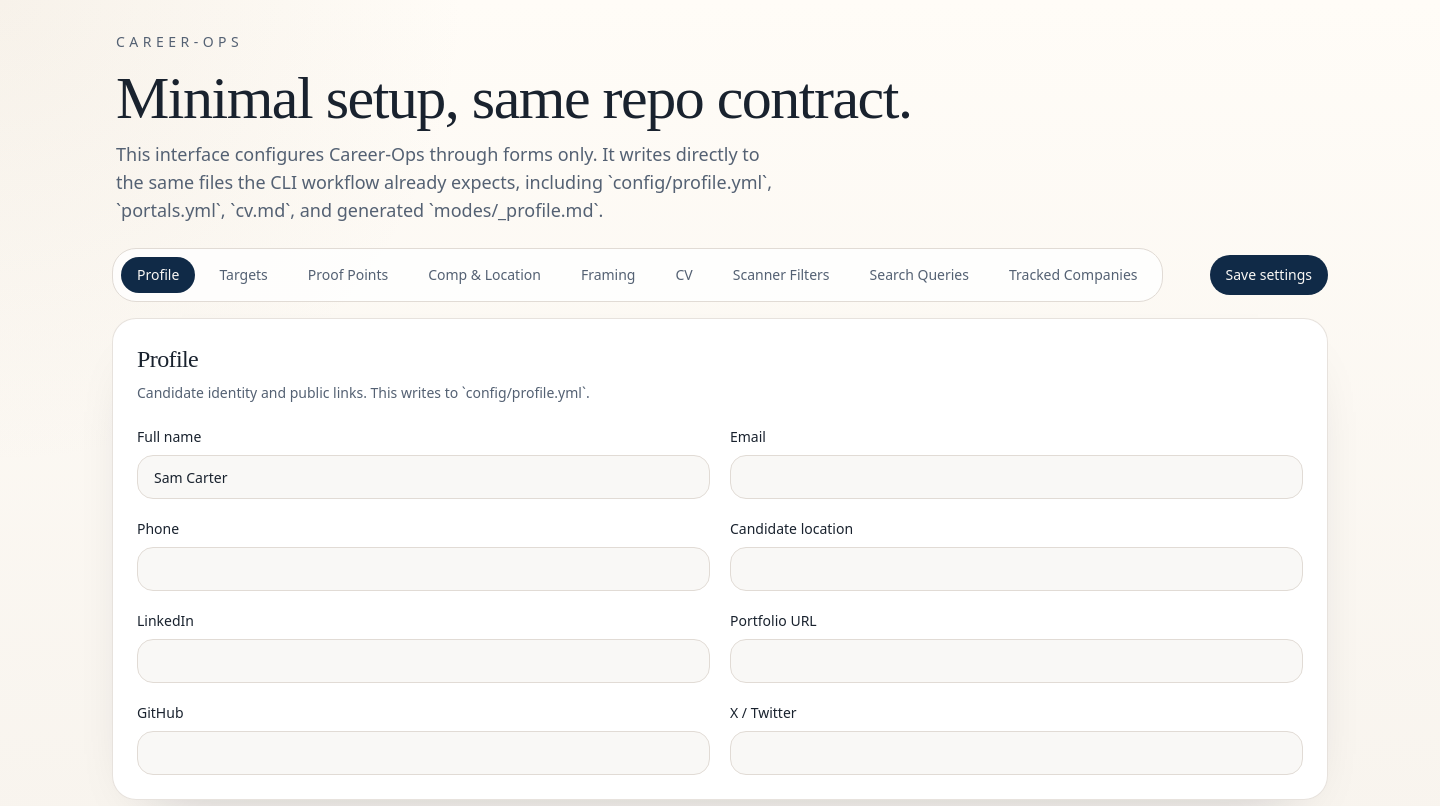
Test: App › renders settings tabs for complete setup and loads saved values
Expected: the button "Save settings" is shown, [1210, 255, 1328, 295]
Expected: the field showing "Sam Carter" is shown, [137, 455, 710, 499]
Click the button "Scanner Filters" at (781, 275), box [717, 257, 846, 293]
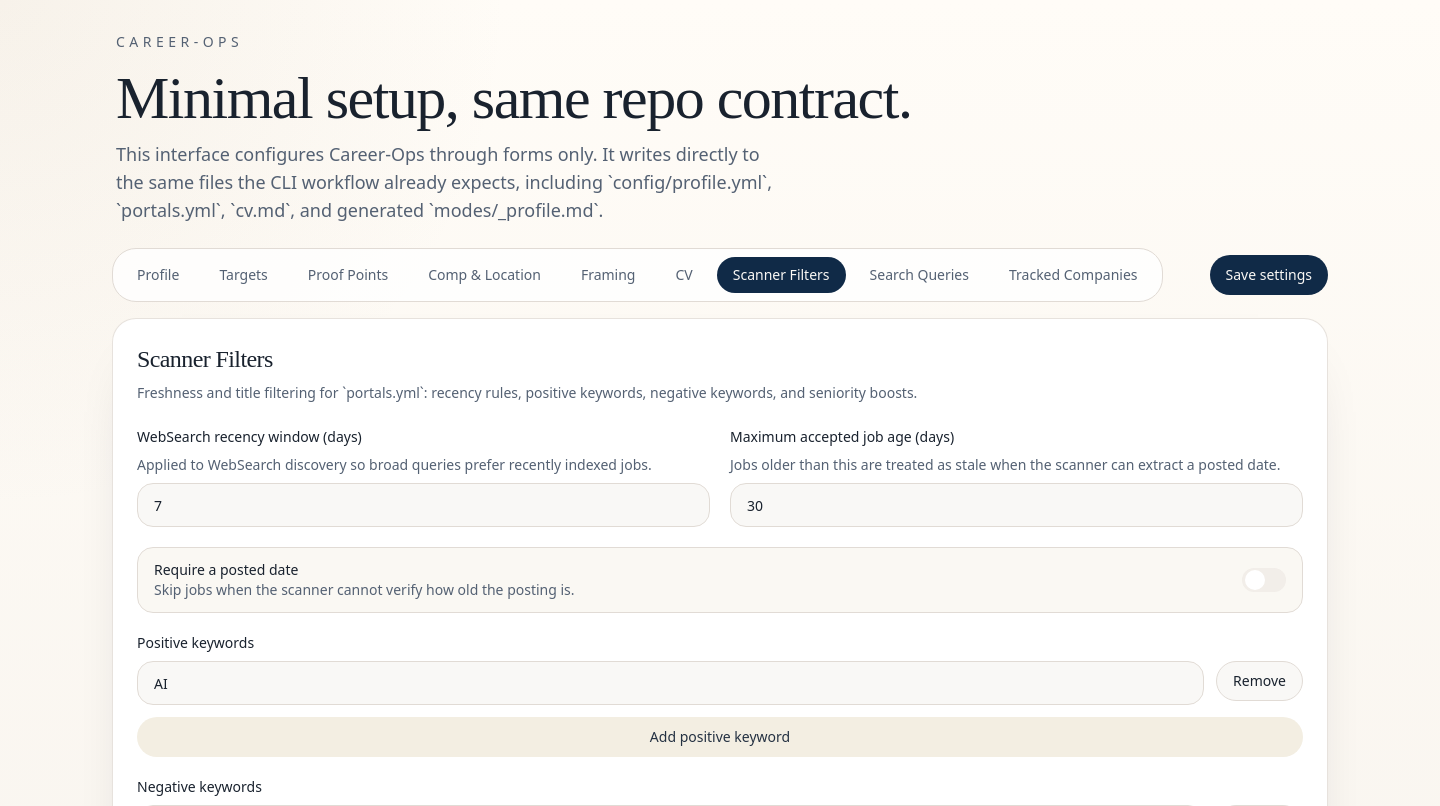
Expected: the 1st field showing "AI" is shown, [137, 661, 1204, 705]
Click the button "Search Queries" at (919, 275), box [854, 257, 985, 293]
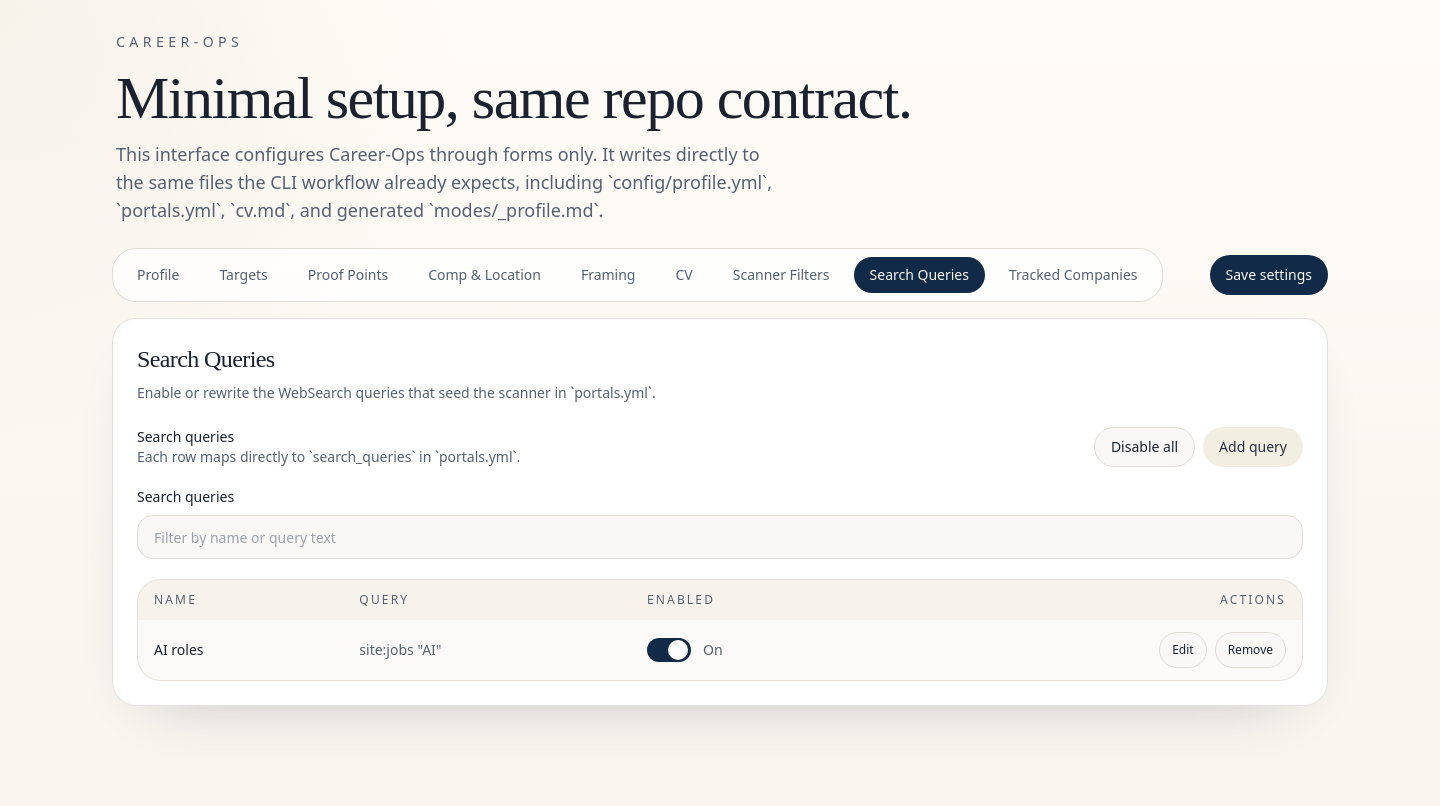
Expected: the field labelled "Search queries" is shown, [137, 515, 1303, 559]
Expected: the button "Disable all" is shown, [1094, 427, 1195, 467]
Expected: the switch named "Disable AI roles" is shown, [647, 638, 691, 662]
Click the button with aria-label "Expand AI roles" at (1183, 650), box [1159, 632, 1207, 668]
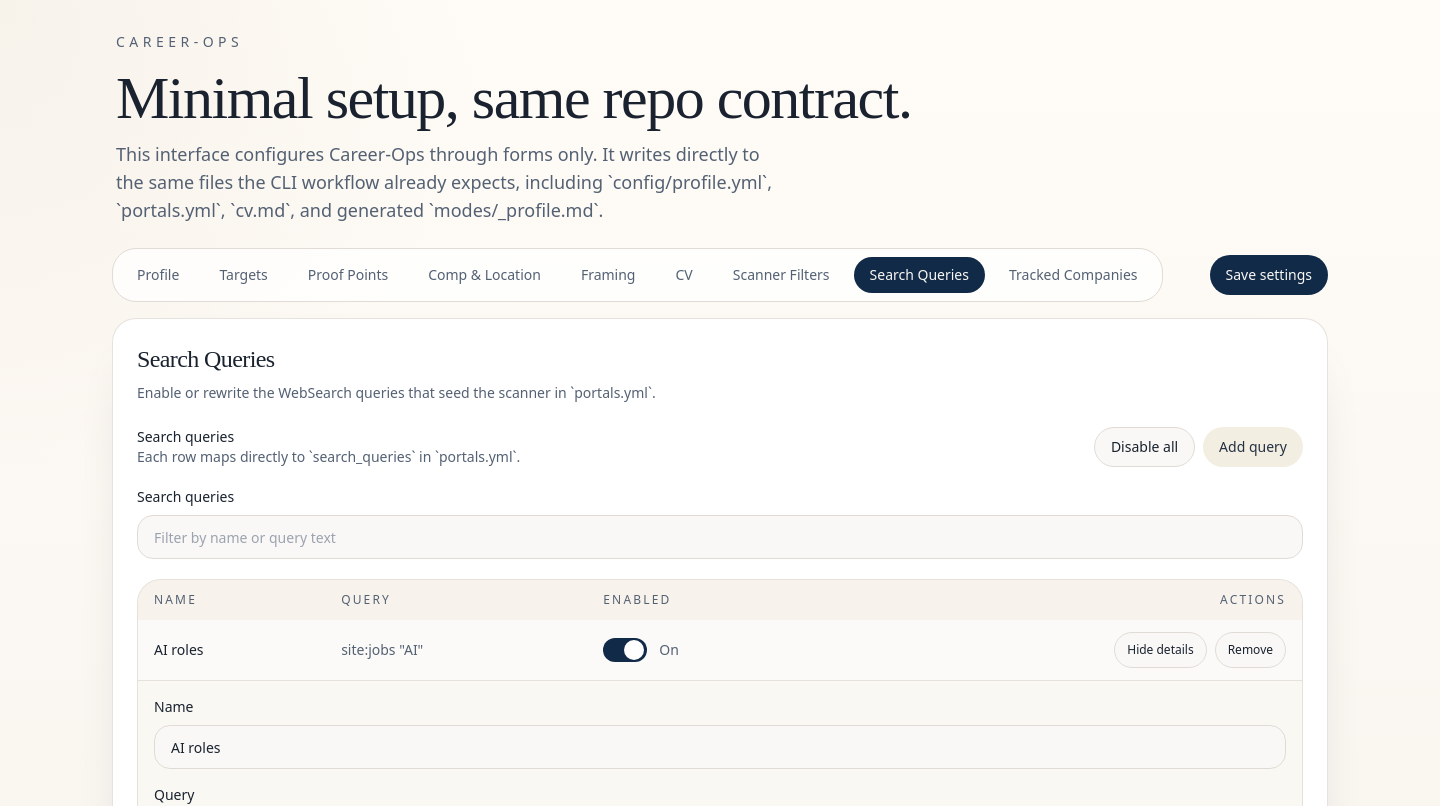
Expected: the field showing "AI roles" is shown, [154, 725, 1286, 769]
Click the button "Tracked Companies" at (1073, 275), box [993, 257, 1154, 293]
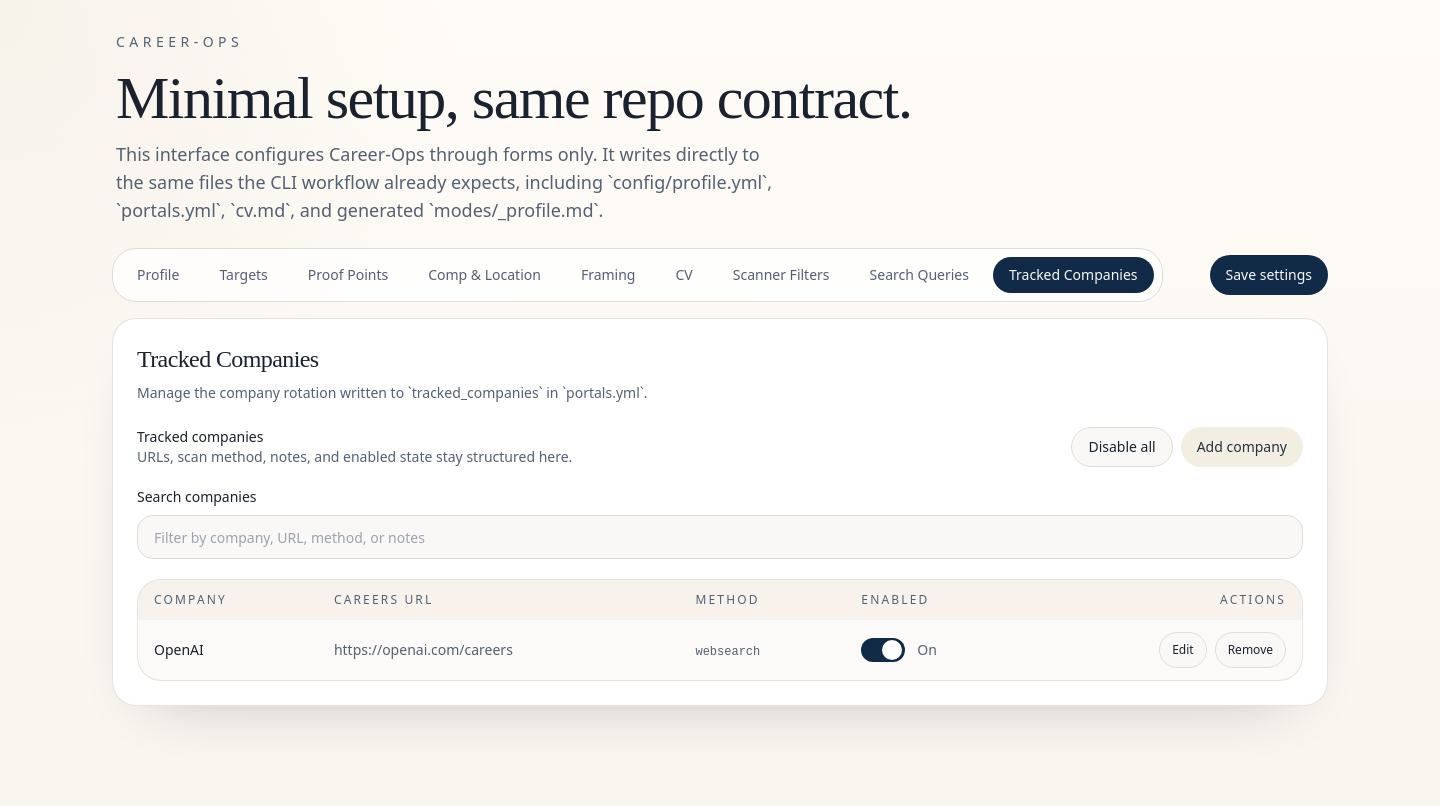
Expected: the button "Disable all" is shown, [1071, 427, 1173, 467]
Expected: the field labelled "Search companies" is shown, [137, 515, 1303, 559]
Expected: the switch named "Disable OpenAI" is shown, [861, 638, 905, 662]
Click the button with aria-label "Expand OpenAI" at (1183, 650), box [1159, 632, 1207, 668]
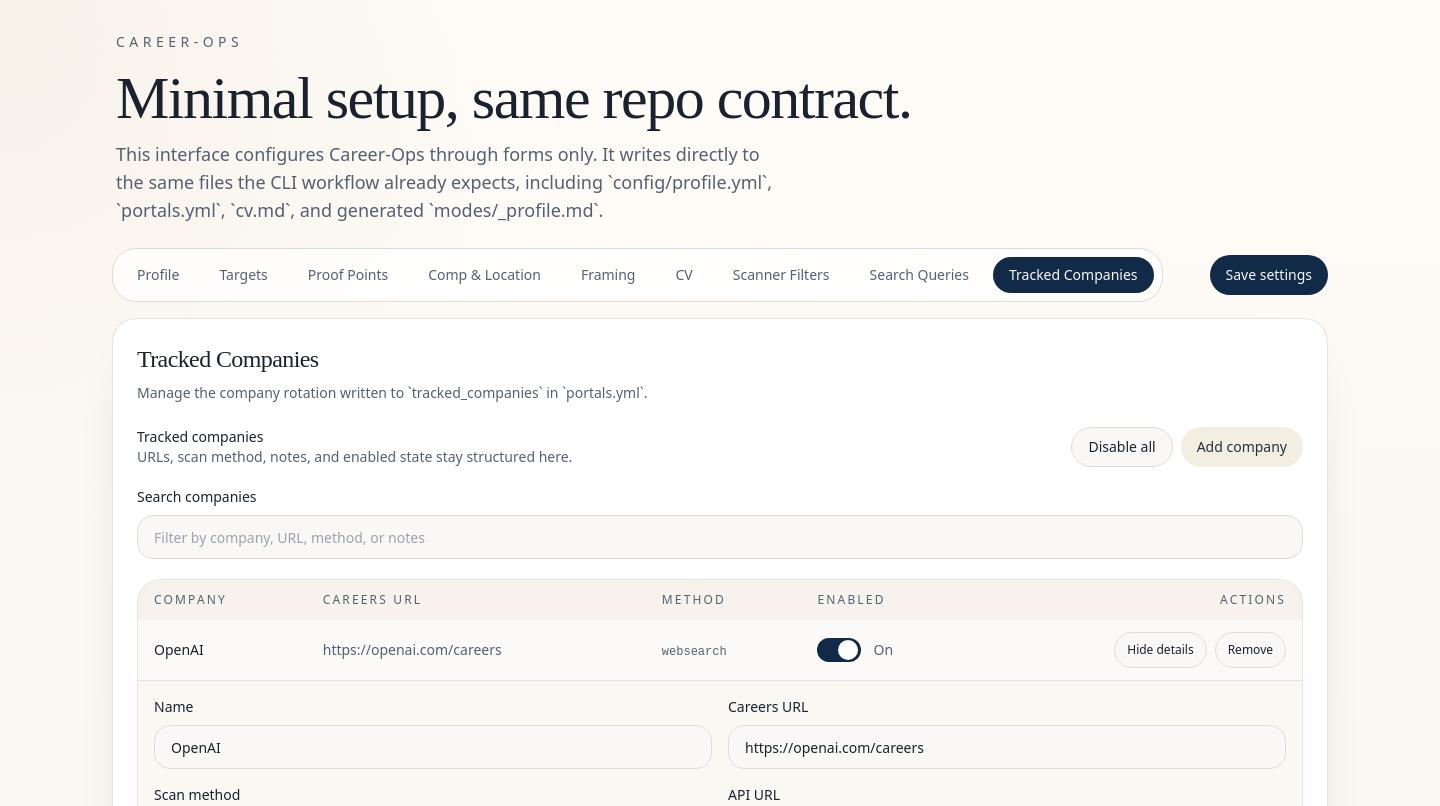
Expected: the field showing "OpenAI" below "Name" is shown, [154, 725, 712, 769]
